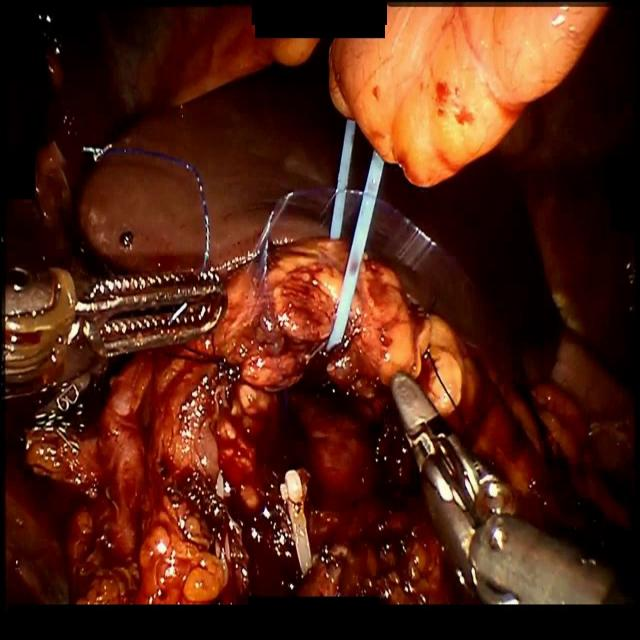surgical-area: (6, 0, 640, 608)
surgical-tool: (392, 371, 634, 608), (6, 260, 224, 399)
